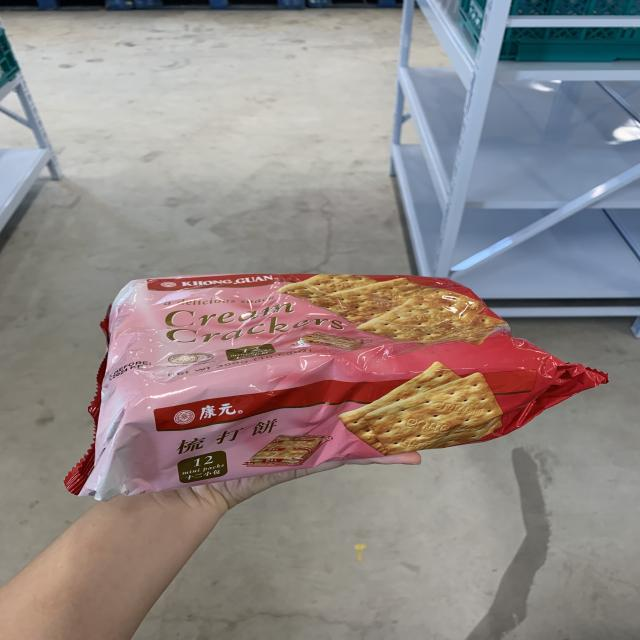object_name: (97, 281, 535, 452)
